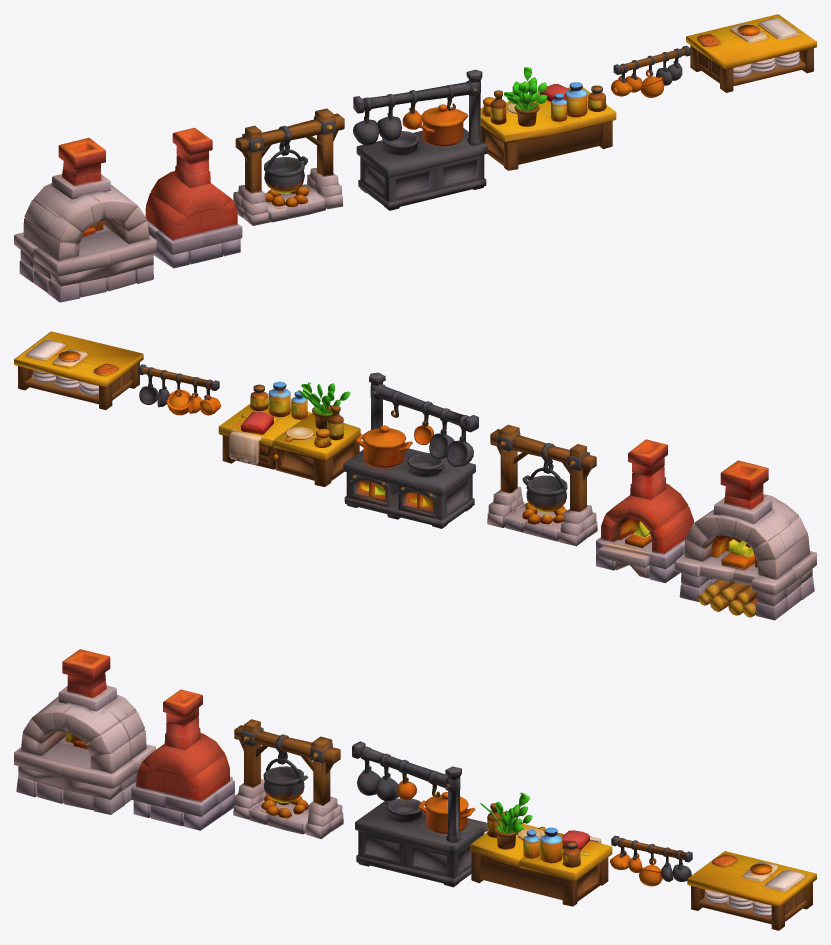
Rendered from kitchenkit_pieces.glb.
The picture shows the model from 3 angles, top to bottom: view 1: azimuth 30°, elevation 25°; view 2: azimuth 150°, elevation 25°; view 3: azimuth 330°, elevation 25°; orthographic projection.
Visible parts, largest first — view 1: Oven_Stone, Stove_IronRack, Counter_Bottles, Oven_Brick, CauldronFrame_Fire, PlateTable_Wood, PanRack_Copper; view 2: Oven_Stone, Stove_IronRack, Counter_Bottles, CauldronFrame_Fire, Oven_Brick, PlateTable_Wood, PanRack_Copper; view 3: Oven_Stone, Stove_IronRack, Counter_Bottles, Oven_Brick, CauldronFrame_Fire, PlateTable_Wood, PanRack_Copper.
Boxes of the visible parts, bbox=[...] form: Oven_Stone: bbox=[14, 137, 156, 302]; Stove_IronRack: bbox=[353, 69, 487, 210]; Counter_Bottles: bbox=[480, 67, 616, 170]; Oven_Brick: bbox=[145, 127, 242, 268]; CauldronFrame_Fire: bbox=[233, 108, 344, 225]; PlateTable_Wood: bbox=[686, 14, 816, 92]; PanRack_Copper: bbox=[611, 45, 690, 97]; Oven_Stone: bbox=[675, 460, 816, 620]; Stove_IronRack: bbox=[343, 372, 478, 528]; Counter_Bottles: bbox=[218, 381, 360, 486]; CauldronFrame_Fire: bbox=[487, 424, 597, 546]; Oven_Brick: bbox=[596, 439, 693, 583]; PlateTable_Wood: bbox=[14, 331, 143, 409]; PanRack_Copper: bbox=[138, 364, 220, 415]; Oven_Stone: bbox=[14, 649, 155, 814]; Stove_IronRack: bbox=[352, 741, 487, 887]; Counter_Bottles: bbox=[470, 792, 612, 906]; Oven_Brick: bbox=[131, 689, 234, 830]; CauldronFrame_Fire: bbox=[233, 719, 343, 838]; PlateTable_Wood: bbox=[687, 851, 816, 930]; PanRack_Copper: bbox=[610, 835, 692, 886].
Bounding box in the file's own units: 49.18 × 8 × 5.12.
1 material, 1 textured.
